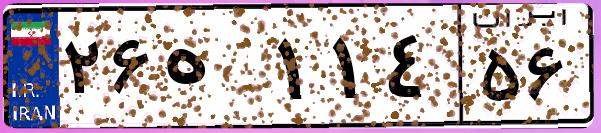1: (270, 28, 330, 110), (330, 28, 385, 110)
2: (57, 26, 110, 100)
4: (385, 28, 445, 110)
5: (475, 38, 525, 113)
6: (525, 38, 570, 115), (110, 28, 158, 98)
ه: (158, 20, 270, 120)
